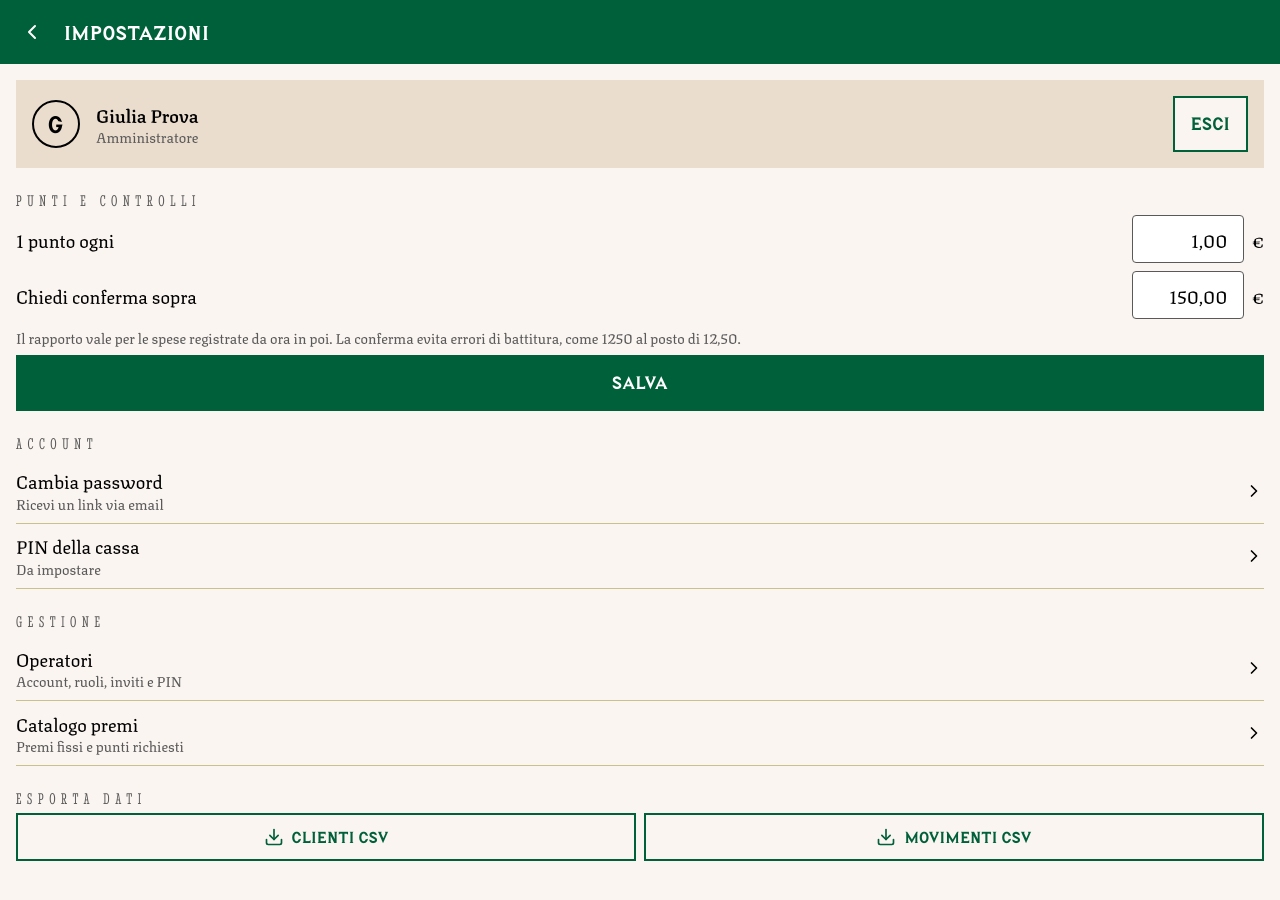
Test: points and controls section for administrators › saves both values together, confirms and shows the server values reformatted
Replace the text in the field labelled "1 punto ogni" with "2" at [1188, 239], box x1=1132 y1=215 x2=1244 y2=263
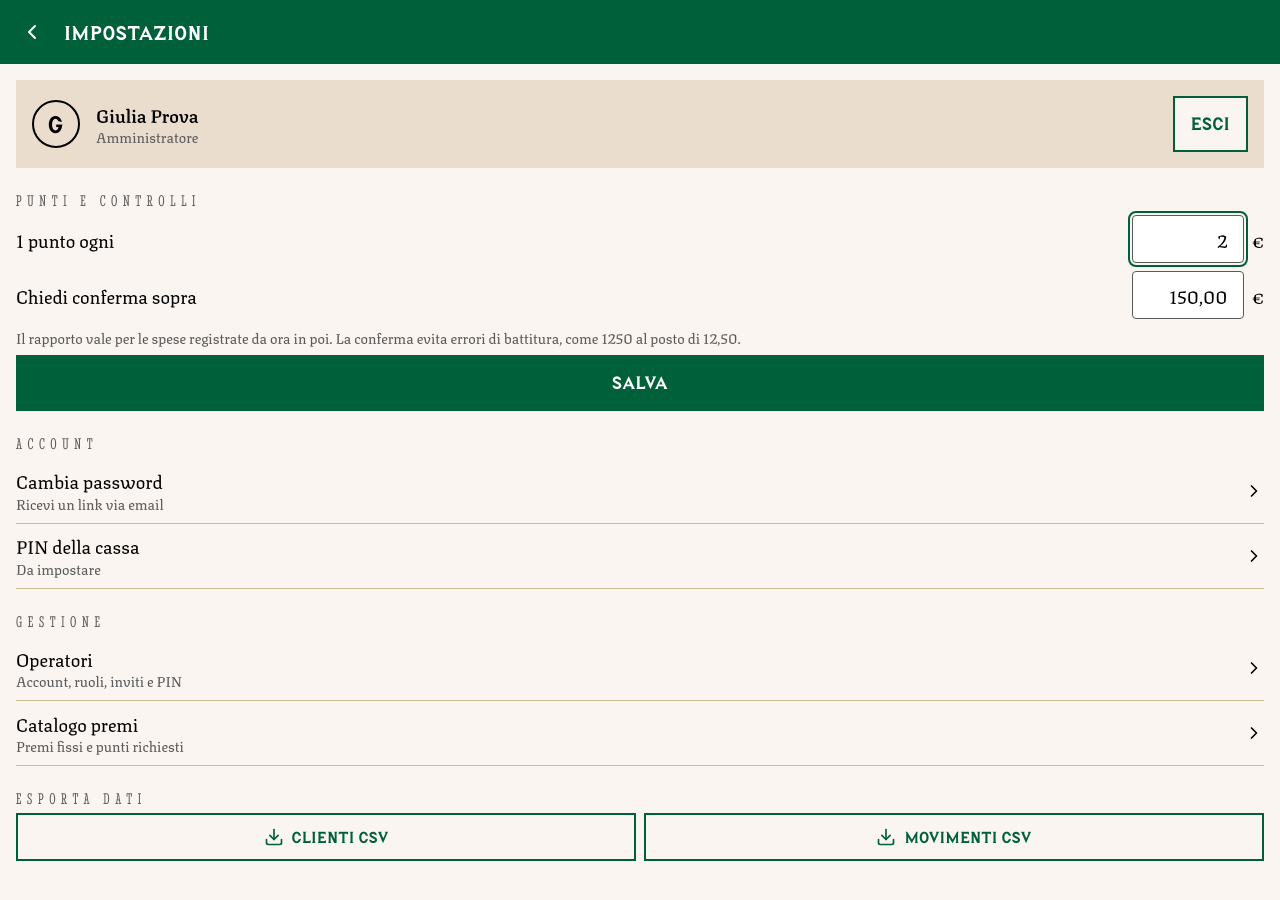
Replace the text in the field labelled "Chiedi conferma sopra" with "200" at [1188, 295], box x1=1132 y1=271 x2=1244 y2=319
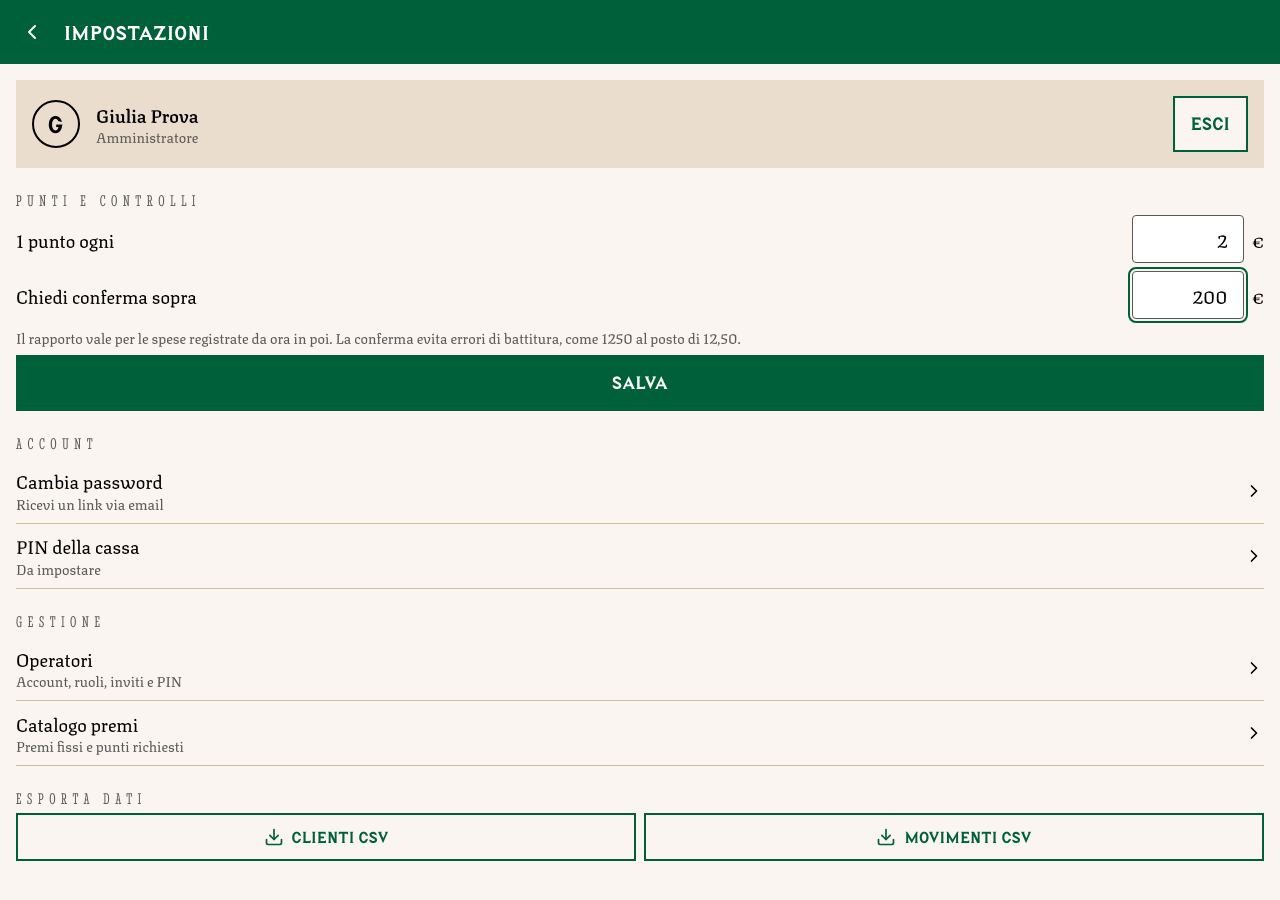
Click the button "Salva" at [640, 384], box x1=16 y1=356 x2=1264 y2=412
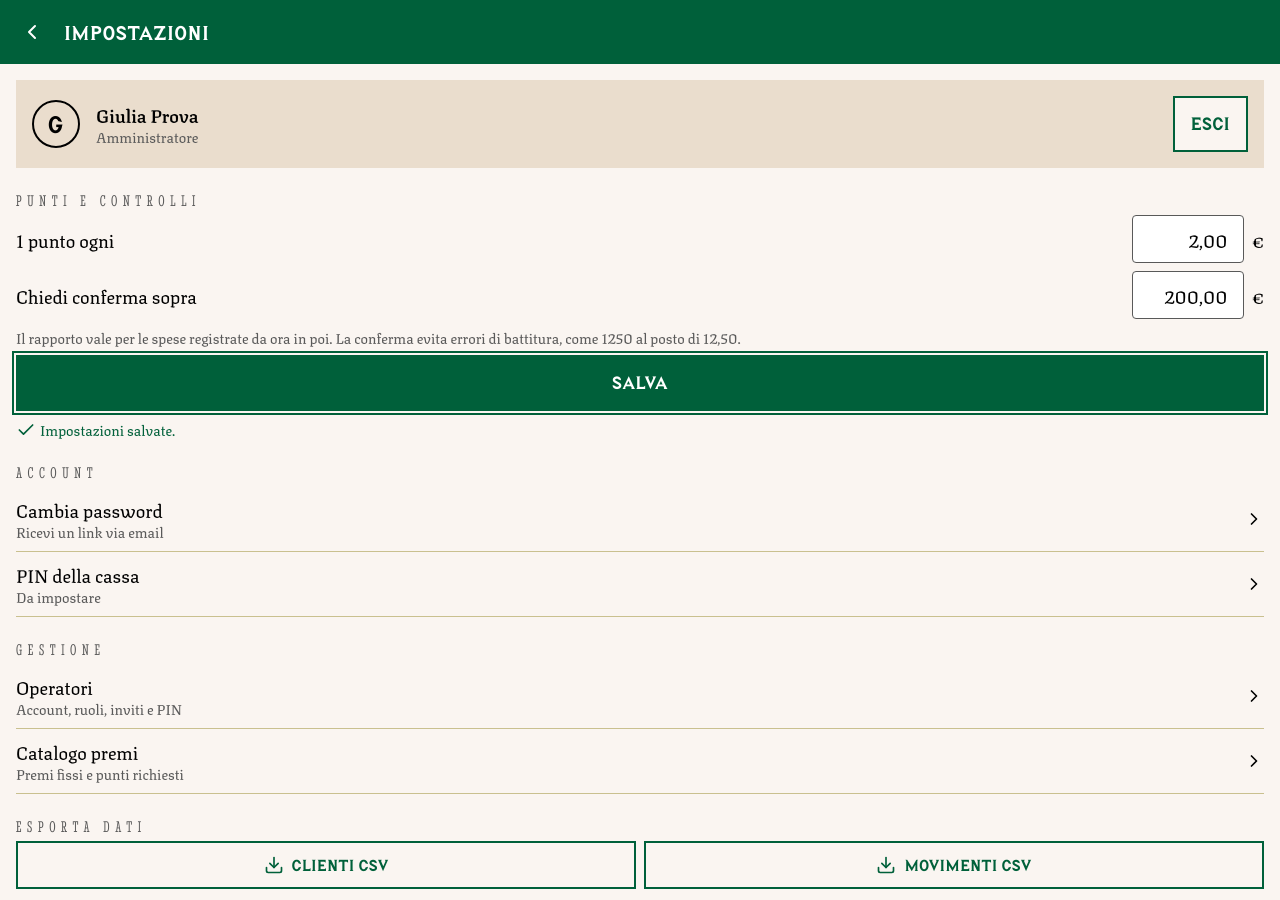
Check: the element showing "Impostazioni salvate." is shown, box x1=16 y1=418 x2=175 y2=440
Check: the field labelled "1 punto ogni" holds "2,00", box x1=1132 y1=215 x2=1244 y2=263
Check: the field labelled "Chiedi conferma sopra" holds "200,00", box x1=1132 y1=271 x2=1244 y2=319
